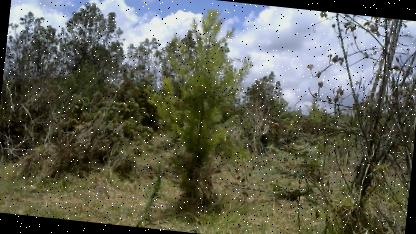tree: (141, 0, 269, 218)
